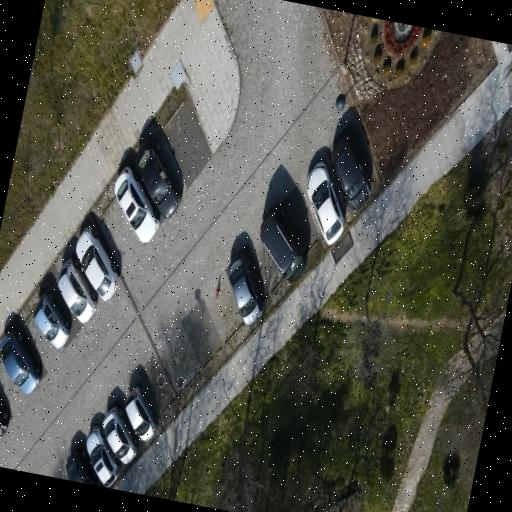car: (136, 138, 182, 217), (260, 207, 307, 281), (115, 167, 160, 242), (307, 161, 346, 244), (76, 226, 119, 300), (332, 135, 371, 210), (0, 330, 42, 394), (58, 257, 98, 322), (228, 252, 263, 326), (34, 292, 71, 347), (103, 407, 139, 463), (87, 426, 120, 487), (126, 386, 157, 440), (66, 450, 99, 485), (0, 402, 10, 437)
